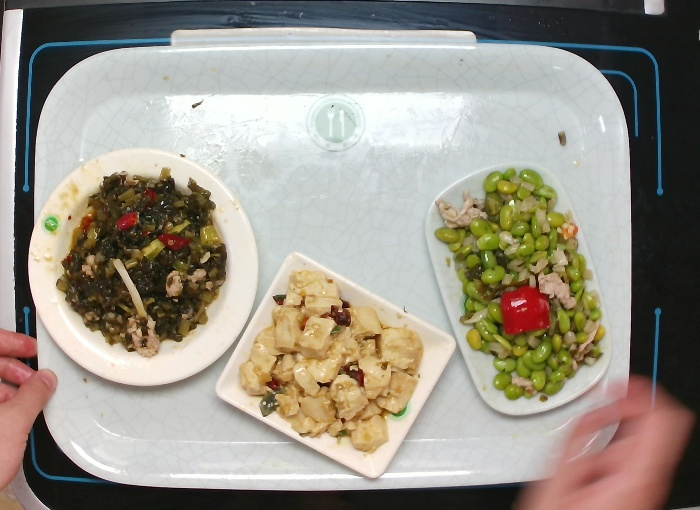WCQzf-Bai_Se_Si_Fang_Die: (212, 248, 458, 481)
WCQzf-Kuan_Bian_Yuan_Die: (24, 144, 261, 390)
WCQzf-Tuo_Yuan_Pan: (422, 158, 614, 416)
